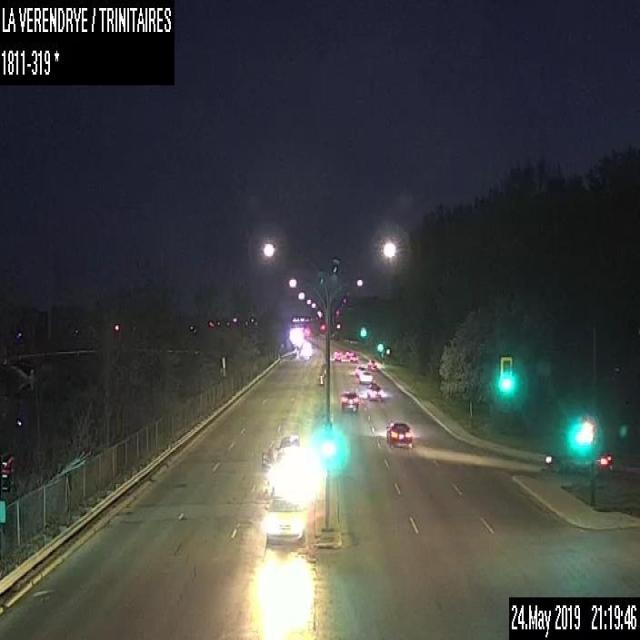vehicle: (265, 485, 306, 541), (544, 440, 612, 470), (278, 434, 314, 490), (385, 420, 412, 447), (340, 389, 358, 412), (366, 382, 382, 400), (358, 368, 372, 382), (354, 364, 364, 374), (367, 358, 375, 368), (334, 350, 341, 361), (349, 353, 357, 361), (345, 349, 353, 357)
